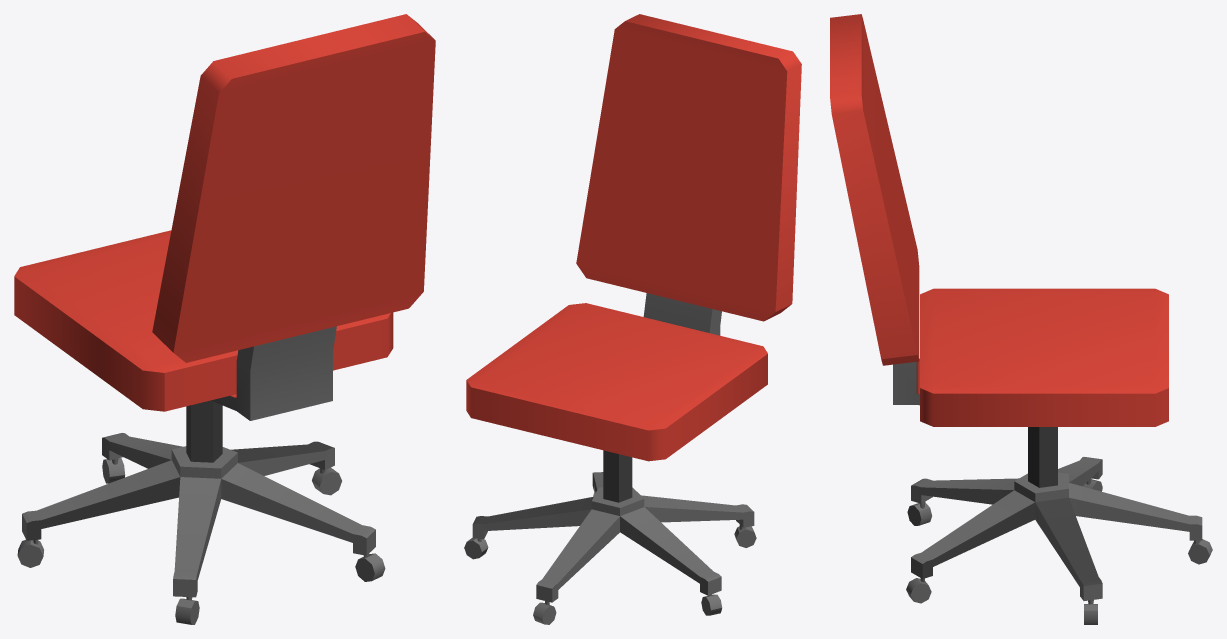
File: Silla.fbx
The picture shows the model from 3 angles, left to right: view 1: azimuth 30°, elevation 25°; view 2: azimuth 150°, elevation 25°; view 3: azimuth 270°, elevation 25°; orthographic projection. The views are drawn at different scales.
Visible parts, largest first — view 1: Silla; view 2: Silla; view 3: Silla.
Boxes of the visible parts, x1,y1,x2,y2 form: Silla: (14,14,435,624); Silla: (464,14,801,624); Silla: (830,14,1212,624).
Bounding box in the file's own units: 95.26 × 167 × 114.
